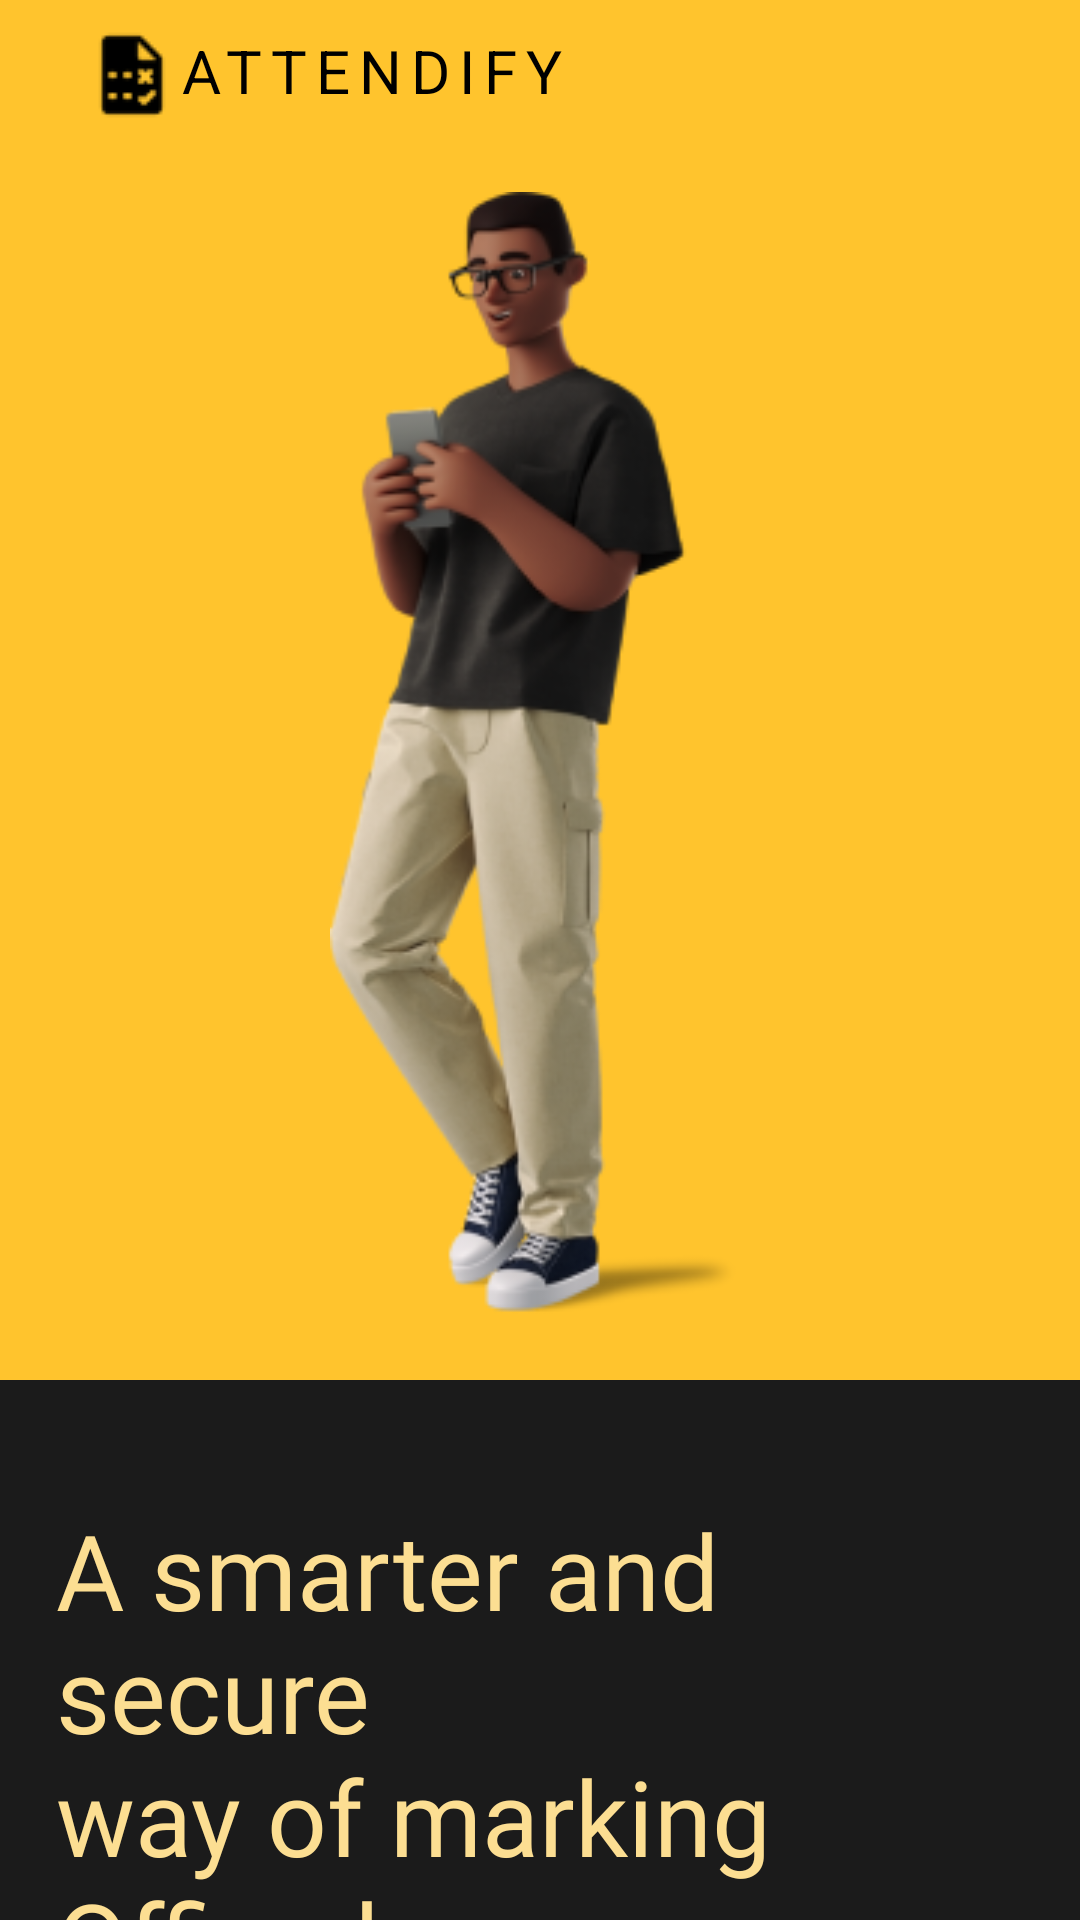

Point at icon controls on the screen. Image size 1080px x 1920px, points as (x,y).
attendance: (132,75)
